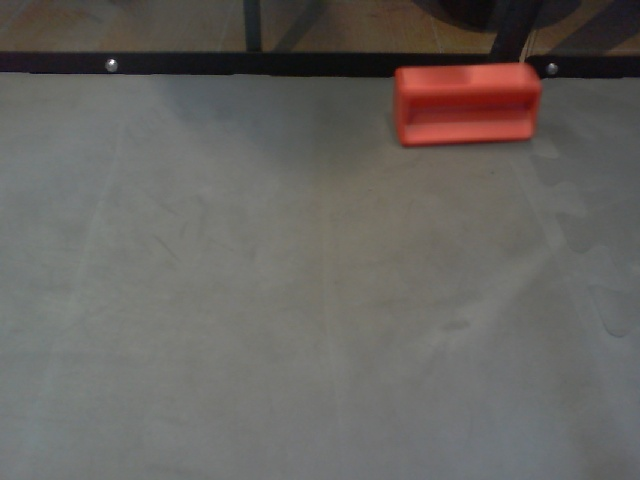RedSample: (393, 62, 541, 146)
